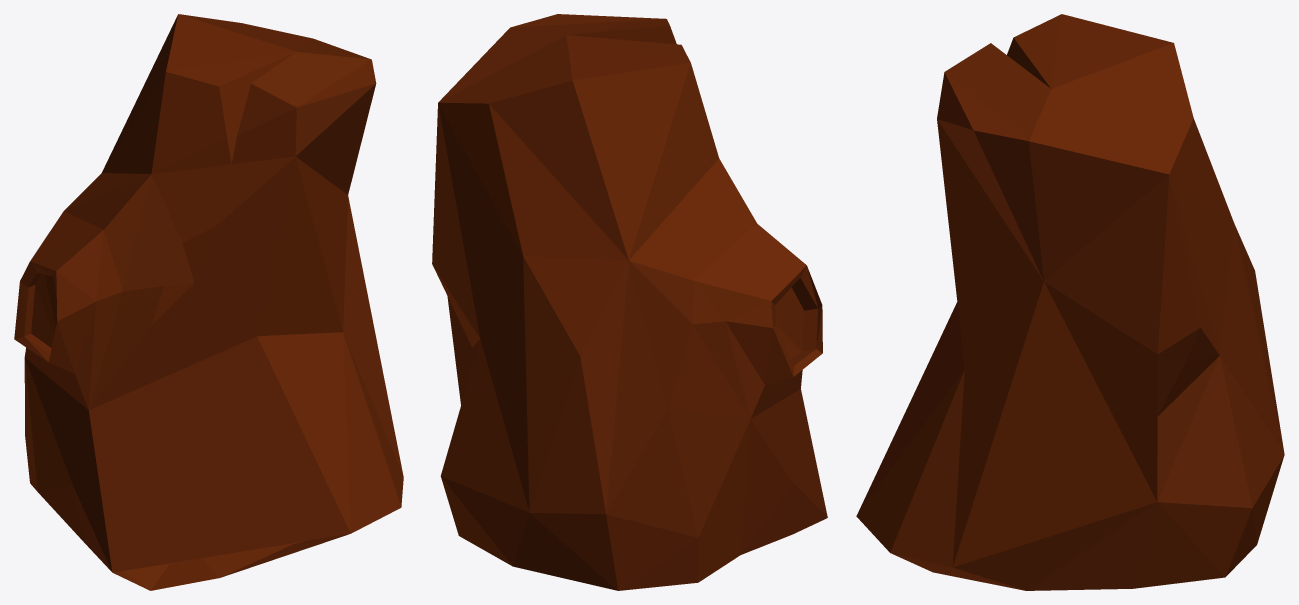
The model's file is treetrunk.02.gltf.
The picture shows the model from 3 angles, left to right: view 1: azimuth 30°, elevation 25°; view 2: azimuth 150°, elevation 25°; view 3: azimuth 270°, elevation 25°; orthographic projection. The views are drawn at different scales.
Parts seen in each view (by area): view 1: Treetrunk.02; view 2: Treetrunk.02; view 3: Treetrunk.02.
Boxes of the visible parts, box(x1,y1,x2,y2) form: Treetrunk.02: box(14, 14, 403, 590); Treetrunk.02: box(432, 14, 827, 590); Treetrunk.02: box(856, 14, 1284, 590).
Bounding box in the file's own units: 0.4905 × 0.6761 × 0.5162.
